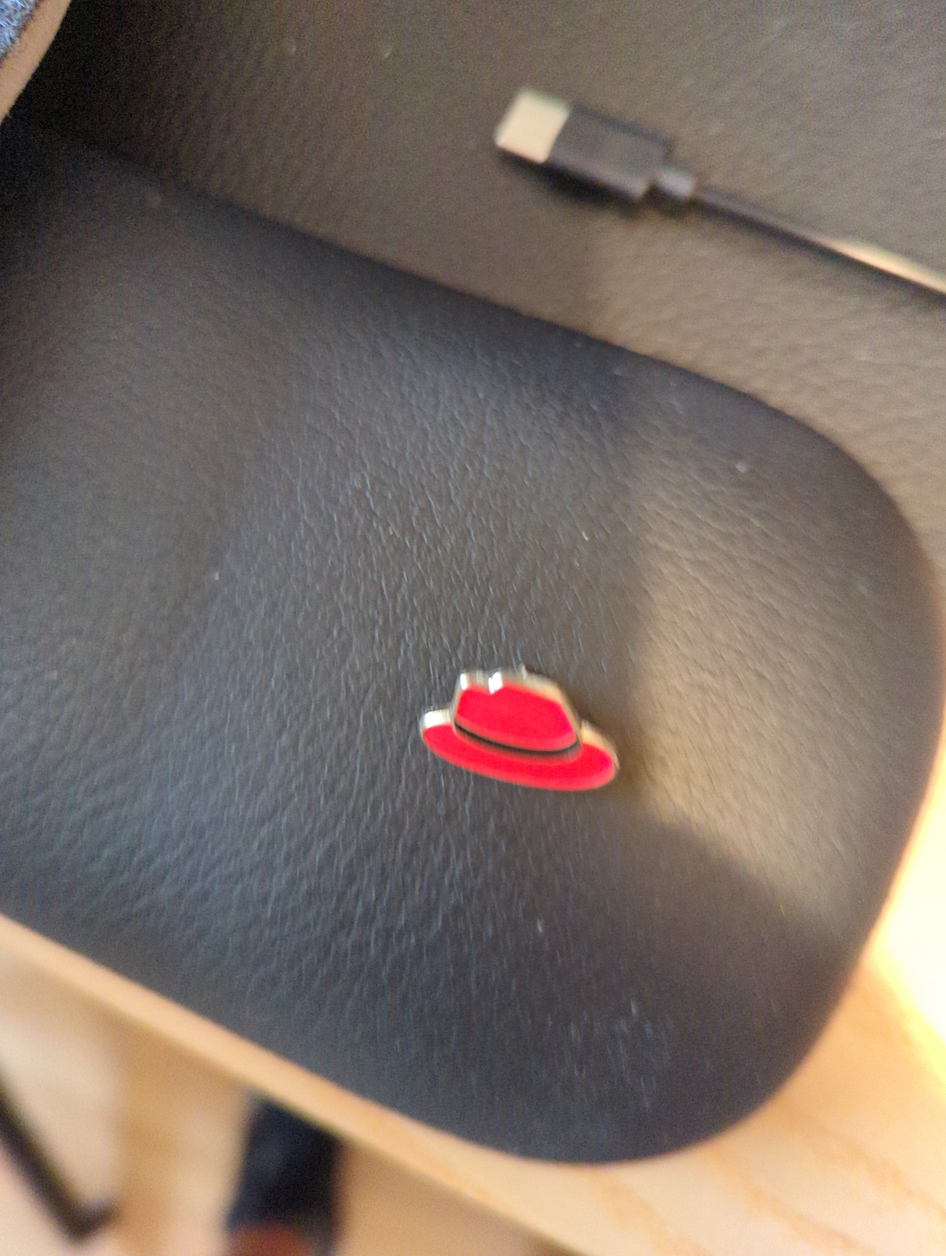Red-Hat: (335, 563, 707, 912)
